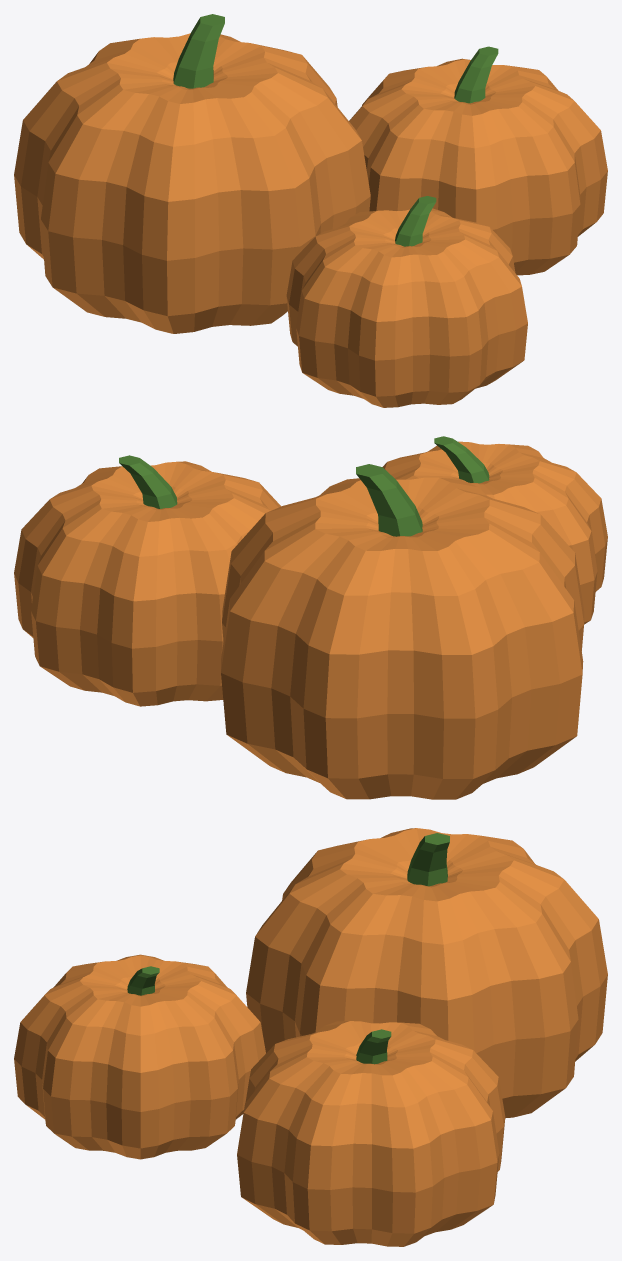
File: HarvestPumpkinGroup.glb
The picture shows the model from 3 angles, top to bottom: view 1: azimuth 30°, elevation 25°; view 2: azimuth 150°, elevation 25°; view 3: azimuth 270°, elevation 25°; orthographic projection. The views are drawn at different scales.
Visible parts, largest first — view 1: HarvestPumpkinGroup_Body, HarvestPumpkinGroup_Stem; view 2: HarvestPumpkinGroup_Body, HarvestPumpkinGroup_Stem; view 3: HarvestPumpkinGroup_Body, HarvestPumpkinGroup_Stem.
Part boxes in pixels (x1,y1,x2,y2): HarvestPumpkinGroup_Body: (14, 33, 607, 407); HarvestPumpkinGroup_Stem: (173, 14, 498, 246); HarvestPumpkinGroup_Body: (14, 441, 607, 799); HarvestPumpkinGroup_Stem: (119, 436, 489, 536); HarvestPumpkinGroup_Body: (14, 828, 607, 1246); HarvestPumpkinGroup_Stem: (127, 833, 449, 1064).
Size of the model in its own units: 0.8136 by 0.3988 by 0.7982.
